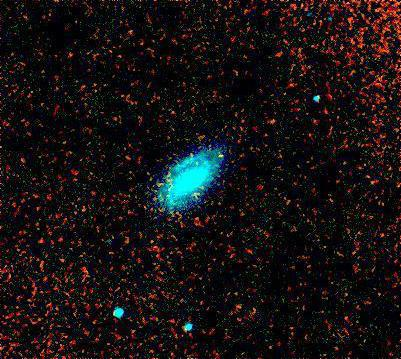star: (258, 107, 288, 137)
